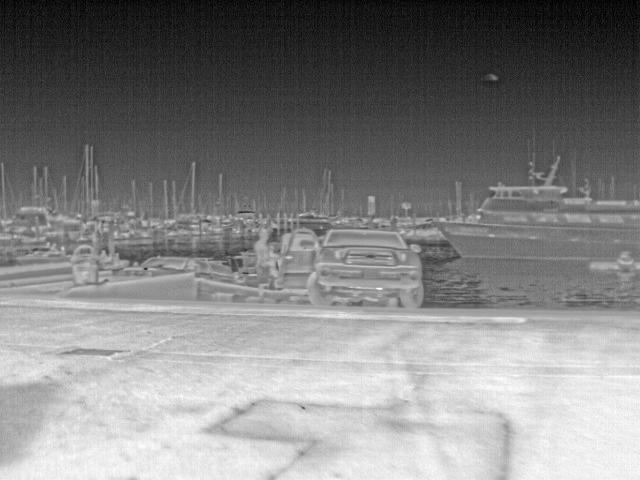car: (280, 227, 427, 308)
person: (255, 227, 277, 290)
